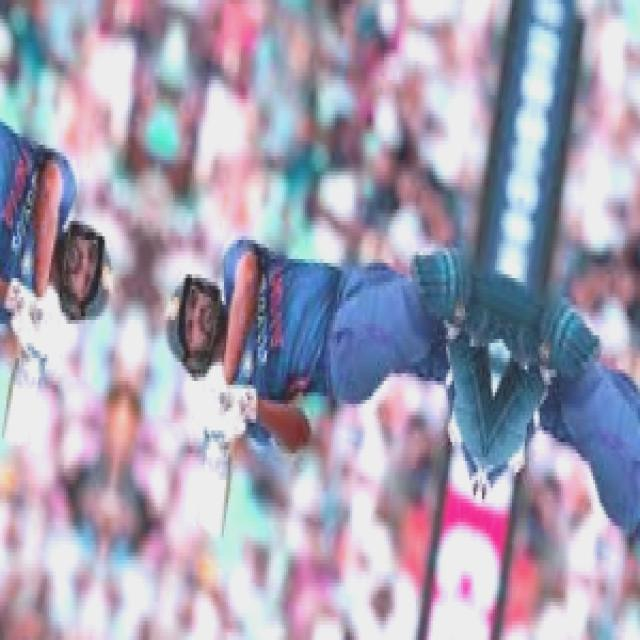toe: (192, 513, 222, 538)
